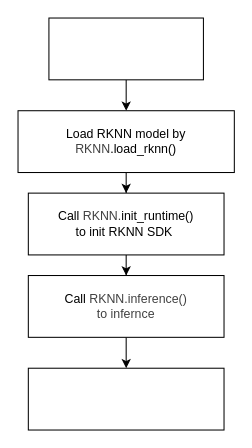
Some shapes in this 252 by 448 pixel diagram are drawn without their labels. The shapes that lost their labels are listed below. From the top down, each one's centre as x and y in pixels, then its label:
the point at 125,48: Create RKNN instance
the point at 125,398: Destroy RKNN instance with RKNN.release()
